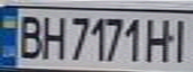1: (121, 15, 145, 63), (87, 14, 109, 62)
7: (66, 12, 90, 61), (106, 15, 124, 62)
B: (12, 11, 45, 60)
H: (36, 11, 69, 61), (145, 15, 178, 63)
I: (166, 15, 193, 63)
